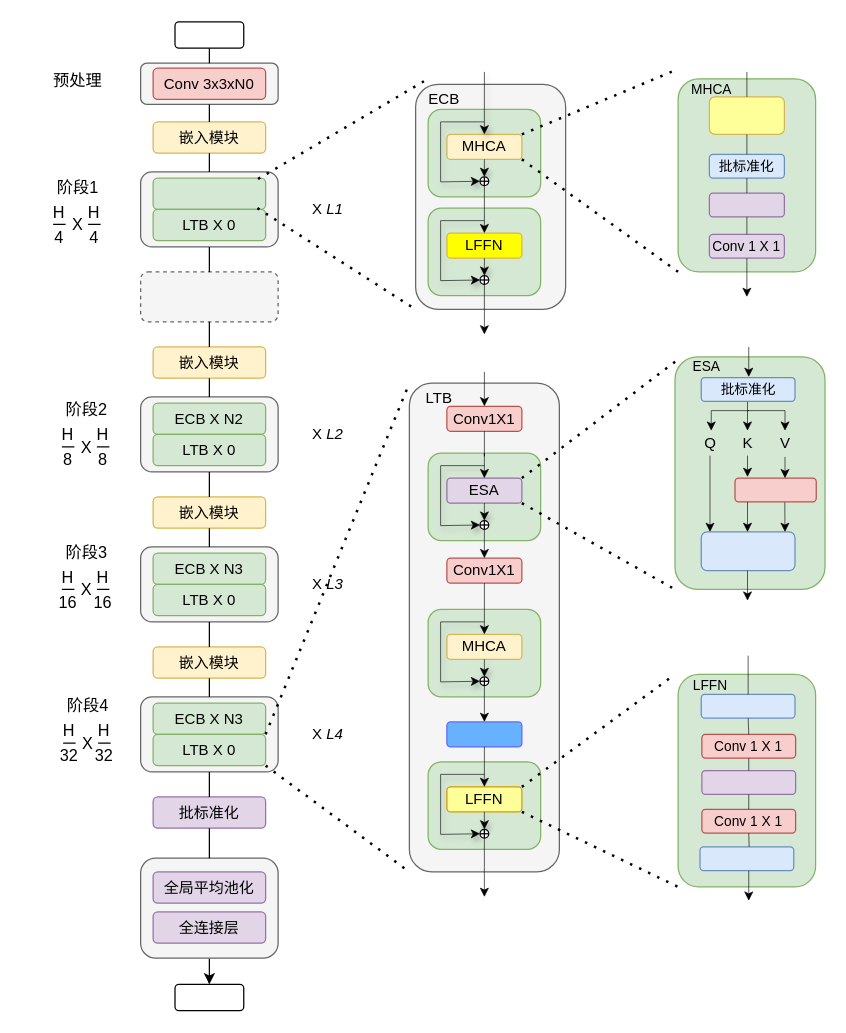
The diagram is 846 pixels wide and 1033 high, and some of its shapes have lost their labels. The shapes that lost their labels are listed below. From the top down, each one's centre as x and y in pixels, then its label:
At point (209, 34): "输入".
At point (746, 115): "分组卷积 3 X 3".
At point (209, 193): "ECB X N1".
At point (746, 204): "ReLU激活".
At point (208, 296): "动量优化 模块".
At point (775, 489): "平均值池化".
At point (747, 551): "多头注意力模块".
At point (747, 705): "Seq2Img".
At point (484, 734): "连接层".
At point (748, 781): "3x3 DW Conv".
At point (746, 858): "Img2Seq".
At point (209, 997): "输出".
